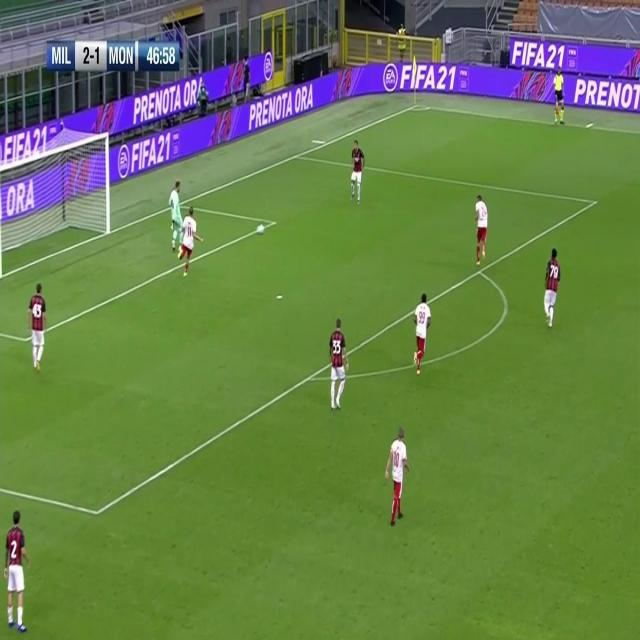ball: (256, 222, 264, 235)
goalkeeper: (169, 178, 183, 254)
player: (3, 506, 30, 633), (383, 427, 411, 529), (27, 282, 49, 378), (328, 316, 350, 412), (411, 290, 432, 377), (542, 245, 562, 330), (178, 206, 202, 276), (348, 137, 365, 208), (473, 192, 489, 266)
referee: (552, 64, 566, 127)
